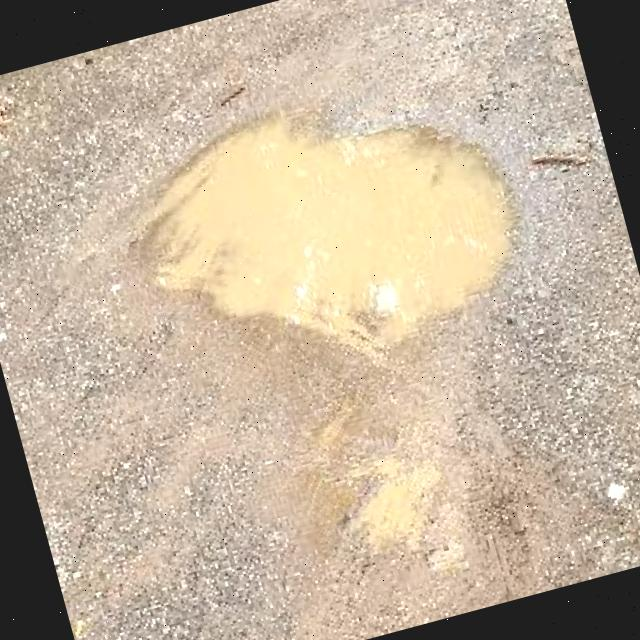waterlogging: (90, 56, 560, 420)
